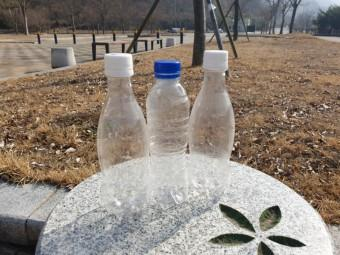plastic_bottle: (93, 51, 151, 223), (185, 44, 238, 213), (145, 60, 190, 208)
